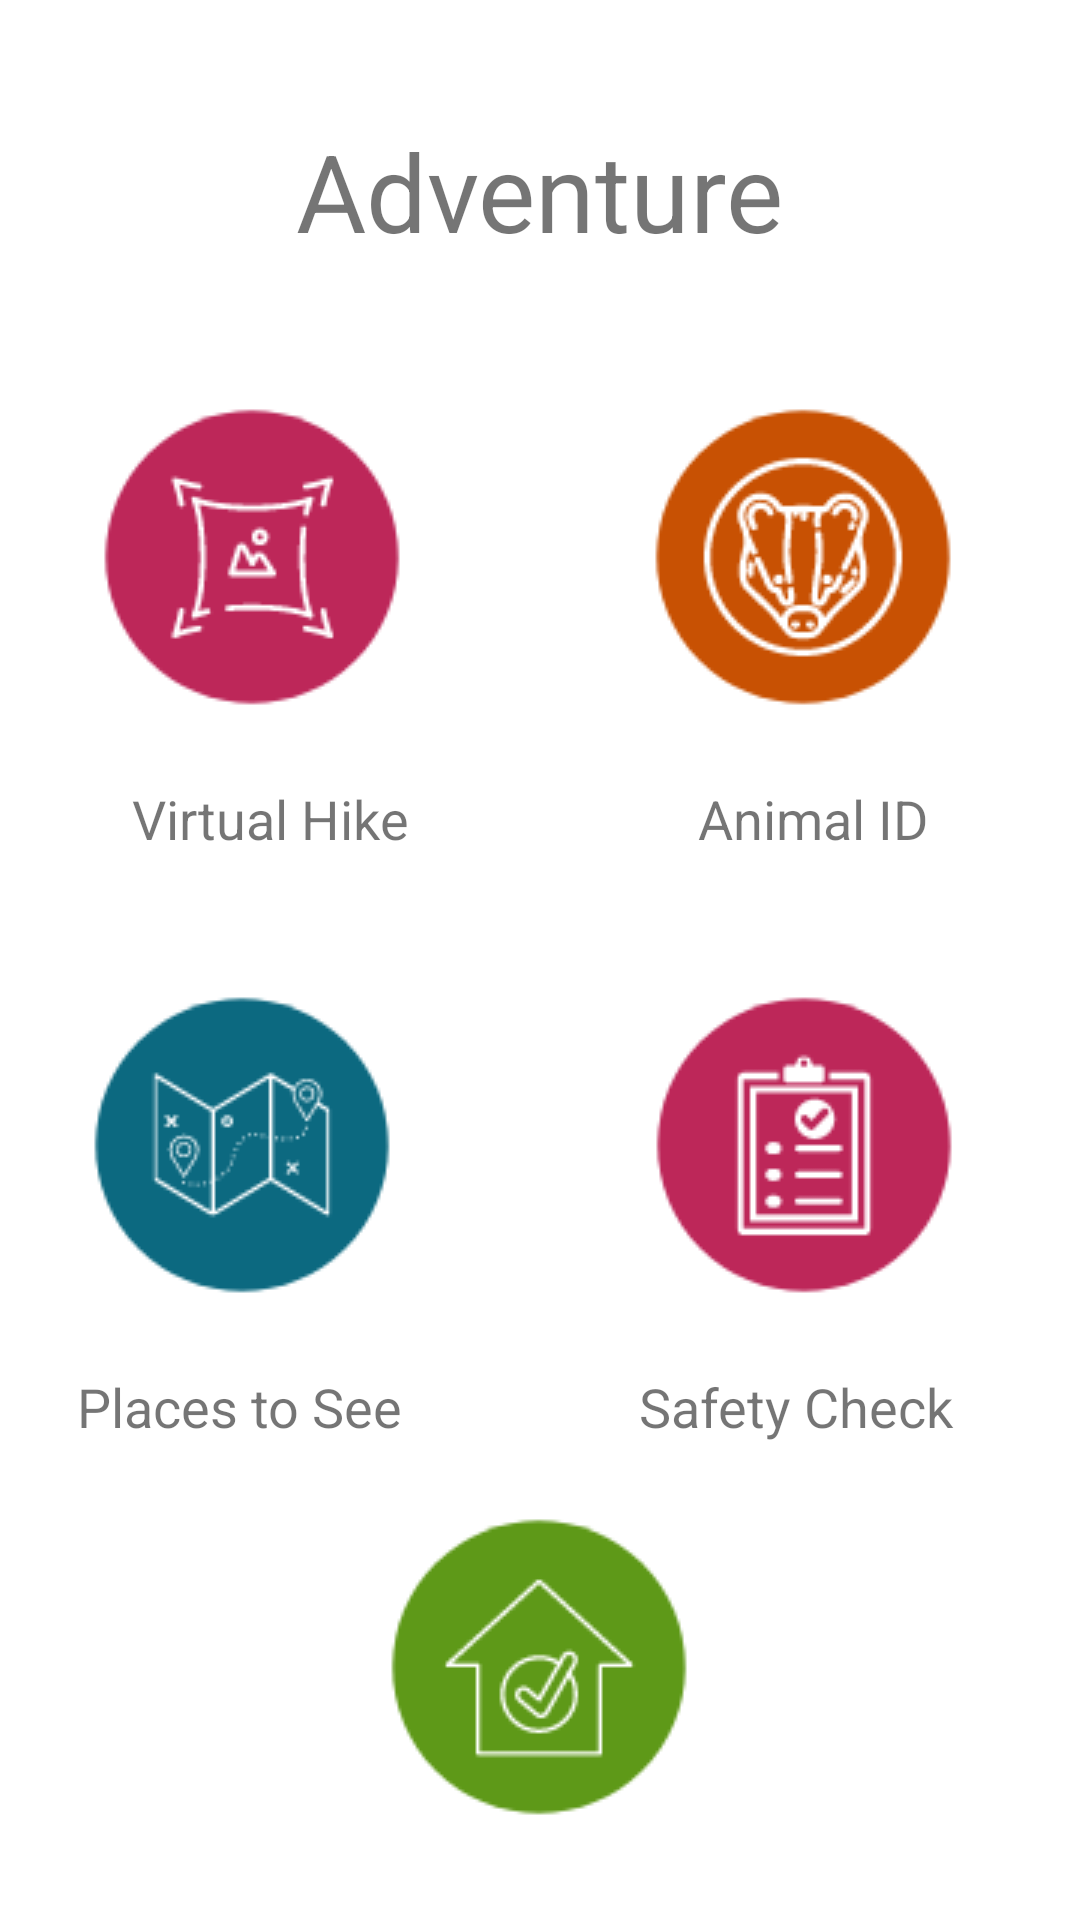

Screen size 1080×1920. Icon name, then its box in pixels as (left=x1, top=y1, right=x2, bottom=y2):
homebutton: (left=391, top=1519, right=687, bottom=1815)
